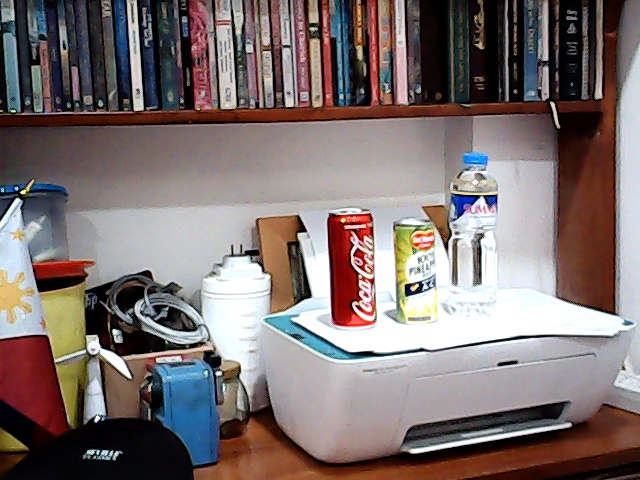Cola: (320, 204, 385, 332)
Pine Juice: (387, 213, 447, 333)
Summit Water: (443, 156, 510, 324)
